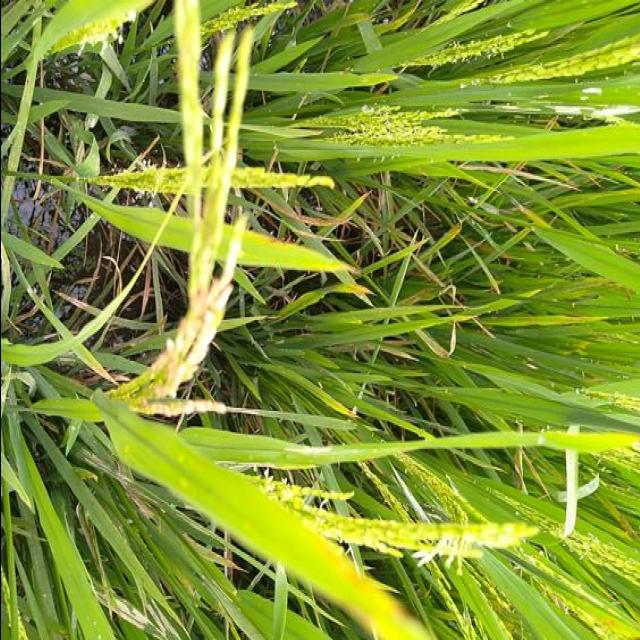Panicle Blight: (137, 267, 231, 414)
